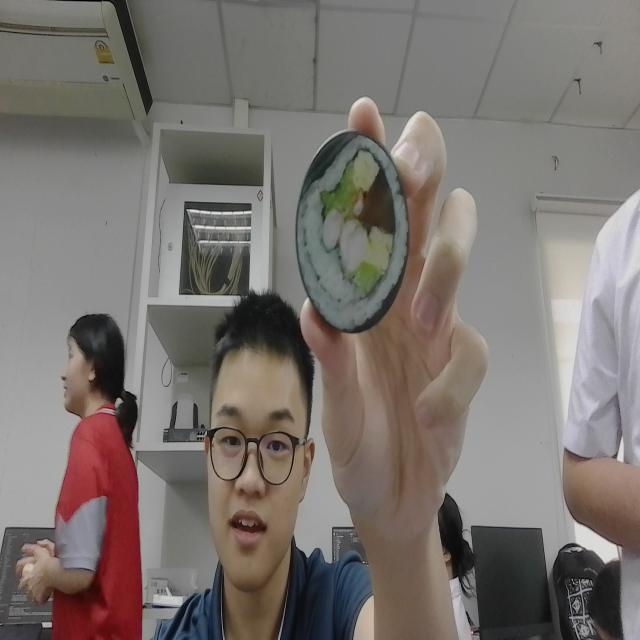sushi: (286, 114, 422, 353)
